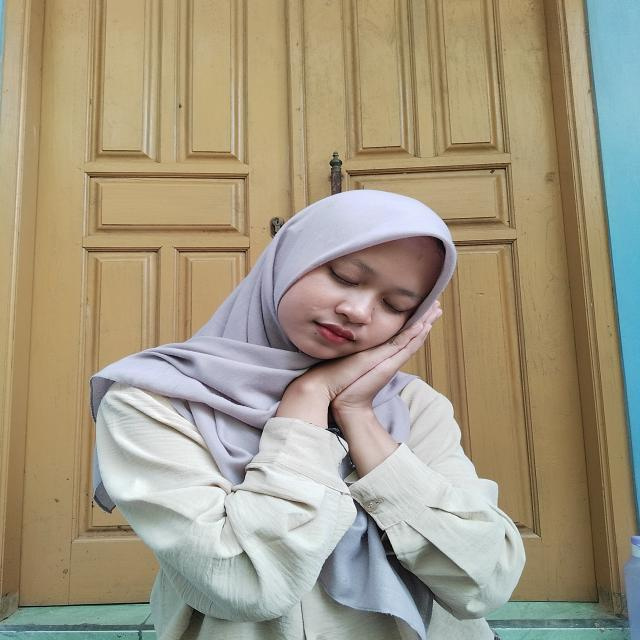tidur: (271, 298, 454, 462)
